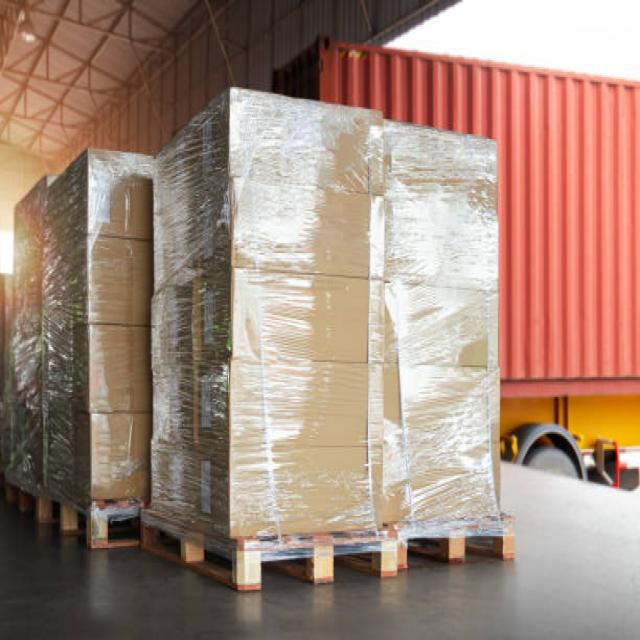Wooden-Pallets: (143, 512, 395, 602), (400, 518, 523, 580), (34, 486, 139, 556), (4, 474, 46, 530)
